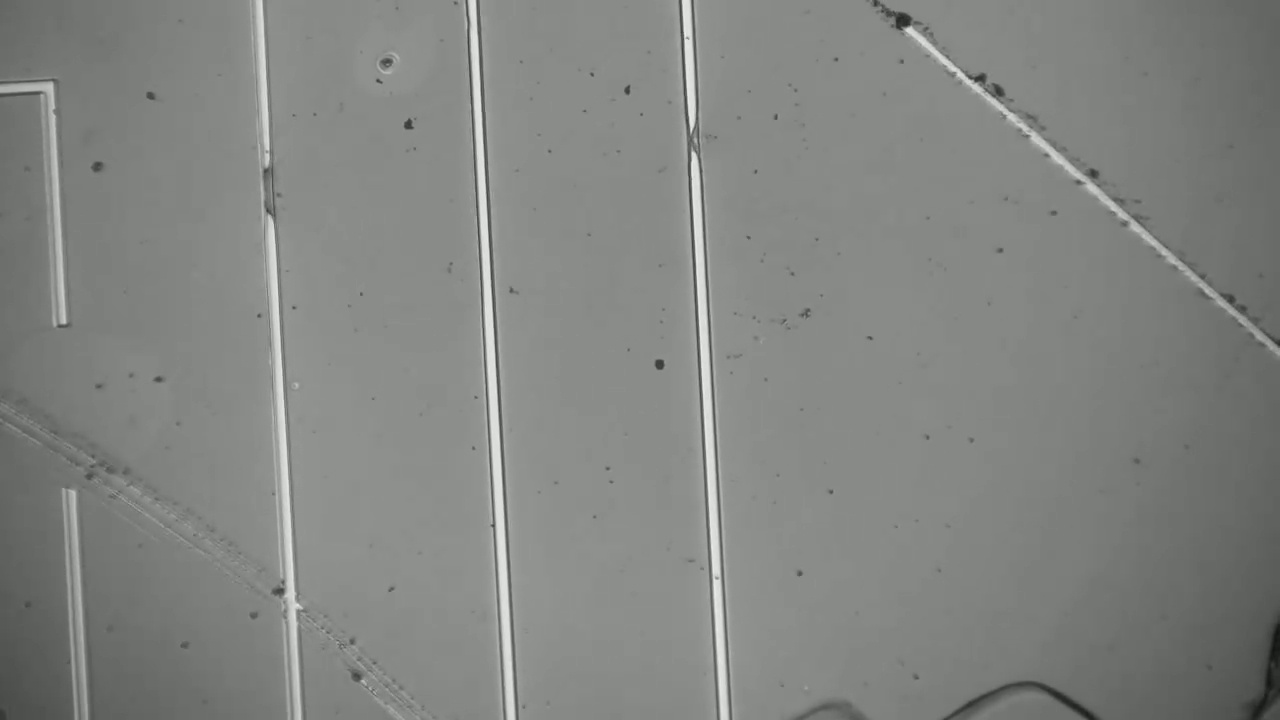gray_line: (237, 139, 288, 240), (673, 108, 711, 184)
open: (16, 275, 114, 533)
scratch: (0, 363, 440, 719), (859, 10, 1279, 362)
